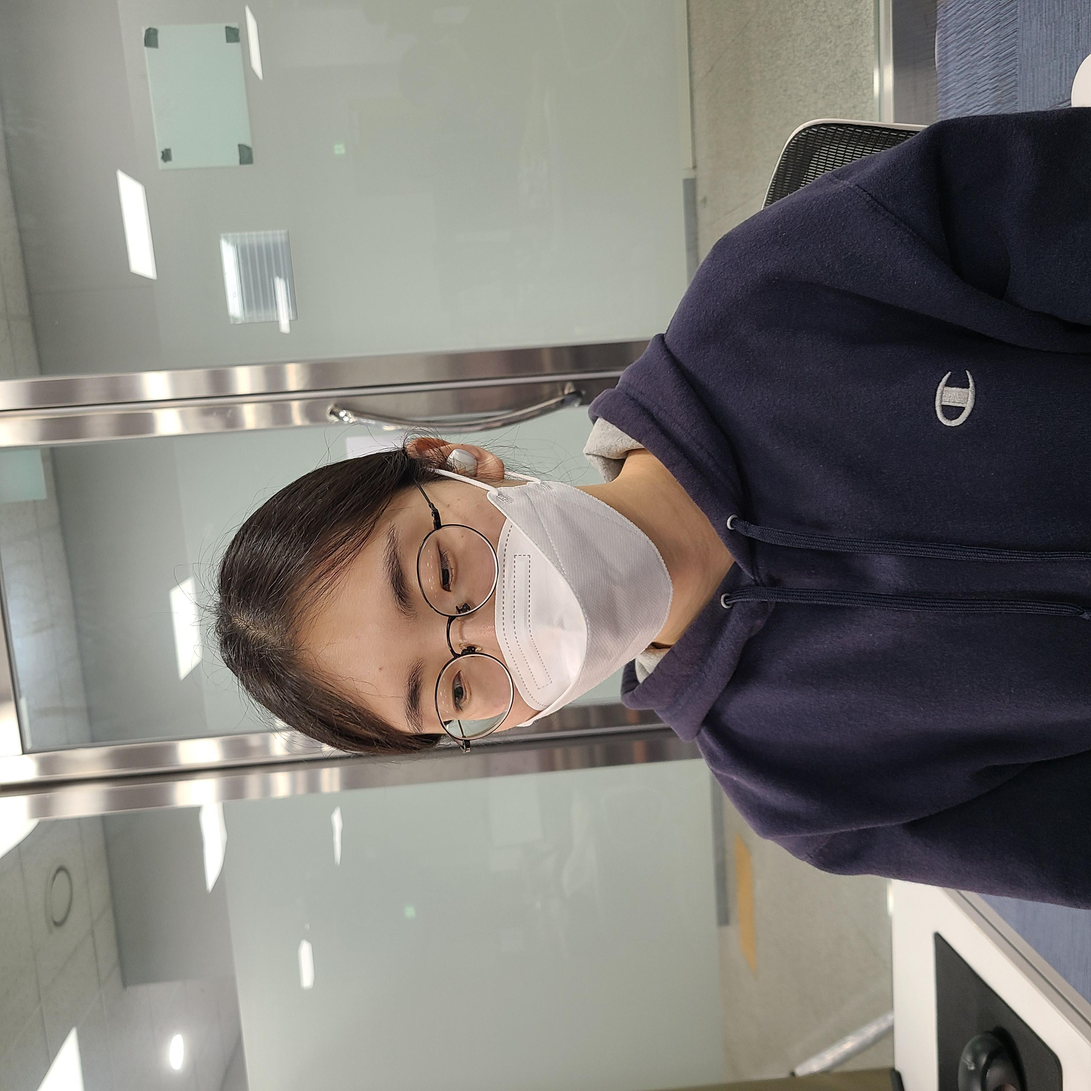earphone: (609, 444, 653, 486)
